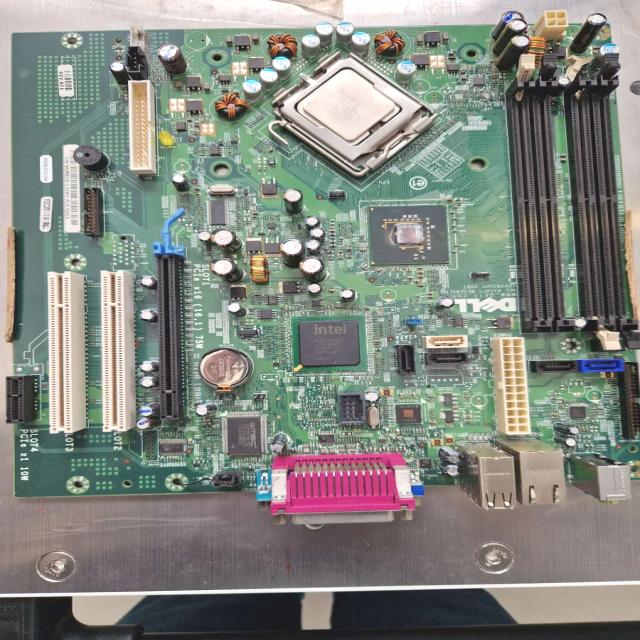A: (248, 256, 268, 283)
C: (210, 258, 242, 283), (210, 228, 240, 252), (300, 256, 326, 282), (280, 239, 304, 267), (283, 189, 303, 213), (171, 174, 190, 192), (304, 239, 322, 255), (226, 302, 246, 316), (196, 402, 216, 416), (139, 310, 158, 324), (436, 296, 454, 310), (140, 276, 158, 290), (139, 404, 159, 416), (310, 228, 326, 242), (304, 216, 320, 230), (340, 288, 356, 302), (140, 361, 158, 373), (139, 376, 157, 388), (307, 282, 322, 296), (364, 390, 379, 402), (198, 231, 210, 242)
